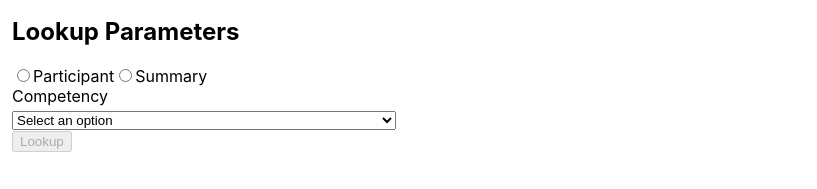
Test: Lookup › Summary results › Should render summary - lowest results
This screenshot has width=817, height=189.
expect the heading "Lookup Parameters" is shown: met, box [12,17,240,46]
Click the radio button labelled "Summary". click: (126, 75)
box: [119,69,132,82]
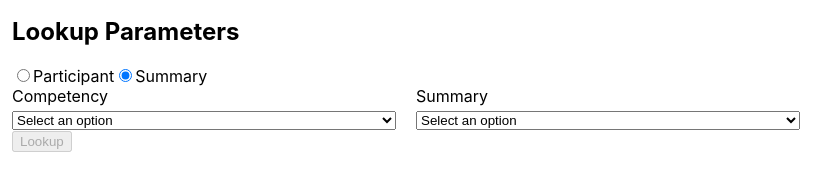
expect the heading "Lookup Parameters" is shown: met, box [12,17,240,46]
expect the 2nd dropdown named "summary" is shown: met, box [416,111,800,130]
Select "Reliability" in the dropdown named "competency" below "Competency". click: (204, 120)
box: [12,111,396,130]
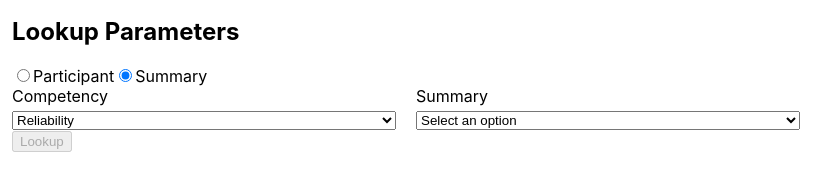
Select "Lowest" in the 2nd dropdown named "summary". click: (608, 120)
box: [416,111,800,130]
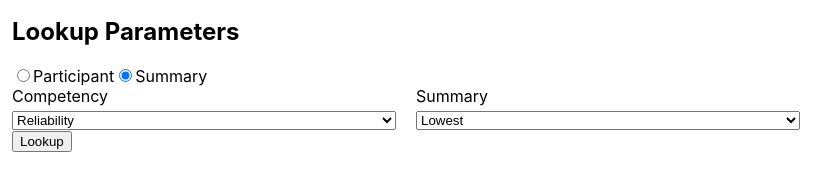
expect the submit button is enabled: met
Click the submit button. click: (42, 141)
box: [12,131,72,152]
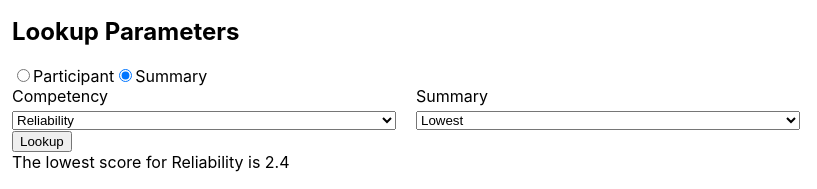
expect the text "The lowest score for Reliability is 2.4" is shown: met, box [12,152,290,172]
